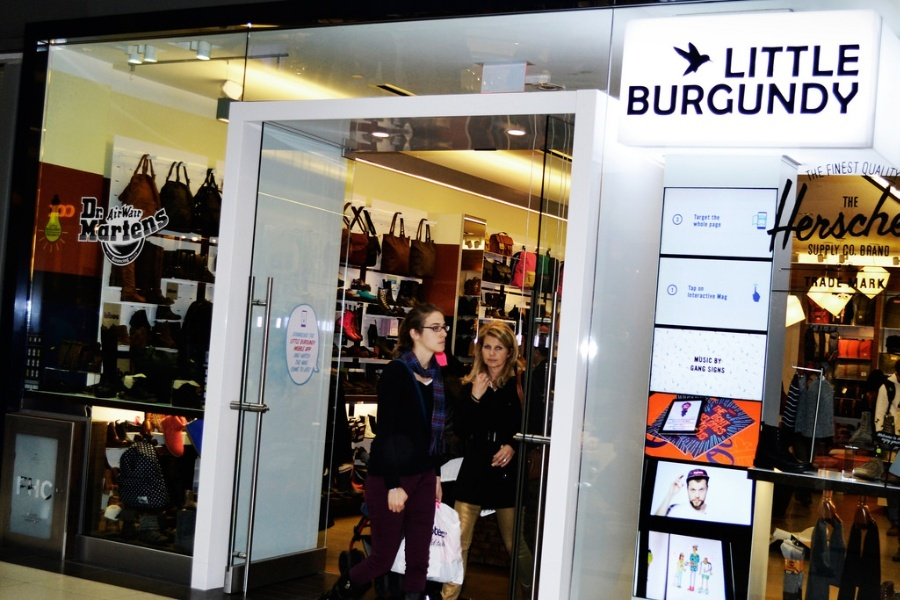text: (785, 176, 800, 254), (801, 176, 816, 254), (817, 176, 832, 254), (833, 176, 848, 254), (849, 176, 864, 254), (865, 176, 880, 254), (881, 176, 896, 254), (305, 332, 319, 379), (291, 332, 304, 379), (81, 206, 96, 246), (97, 206, 112, 246), (113, 206, 128, 246), (129, 206, 144, 246), (145, 206, 160, 246), (161, 206, 175, 246), (777, 176, 784, 254), (737, 43, 752, 79), (753, 43, 768, 79), (769, 43, 784, 79), (785, 43, 800, 79), (801, 43, 816, 79), (817, 43, 832, 79), (833, 43, 848, 79), (641, 81, 656, 116), (657, 81, 672, 116), (673, 81, 688, 116), (689, 81, 704, 116), (705, 81, 720, 116), (721, 81, 736, 116), (737, 81, 752, 116), (753, 81, 768, 116), (769, 81, 784, 116), (785, 81, 800, 116), (801, 81, 816, 116), (817, 81, 832, 116), (833, 81, 848, 116), (849, 43, 862, 79), (17, 474, 32, 503), (33, 474, 48, 503), (628, 81, 640, 116), (81, 196, 96, 222), (849, 81, 860, 116), (726, 43, 736, 79), (865, 160, 880, 181), (881, 160, 896, 181), (706, 414, 720, 436), (113, 203, 128, 222), (129, 203, 144, 222), (833, 160, 848, 177), (97, 196, 106, 222), (897, 176, 900, 254), (849, 275, 864, 290), (865, 275, 880, 290), (817, 275, 832, 289), (434, 526, 448, 540), (817, 243, 832, 256), (865, 244, 880, 257), (849, 160, 860, 177), (806, 164, 816, 182), (721, 413, 733, 428), (804, 275, 816, 289), (113, 254, 128, 264), (49, 474, 54, 503), (817, 164, 825, 182), (881, 244, 892, 257), (833, 275, 843, 289), (433, 538, 448, 547), (849, 196, 860, 208), (721, 414, 727, 436), (689, 284, 704, 292), (689, 292, 704, 300), (695, 420, 704, 433), (695, 429, 704, 442), (690, 364, 704, 372), (808, 243, 816, 256), (833, 243, 841, 256), (849, 243, 857, 256), (721, 404, 729, 417), (826, 160, 832, 177), (708, 221, 720, 229), (708, 366, 720, 374), (694, 355, 704, 364), (693, 213, 704, 221), (705, 292, 716, 300), (104, 311, 112, 322), (113, 311, 121, 322), (676, 216, 688, 223), (108, 203, 112, 222), (881, 275, 886, 290), (842, 196, 848, 208), (705, 355, 713, 364), (843, 243, 848, 256), (705, 429, 710, 442), (897, 160, 900, 181), (694, 221, 704, 227), (705, 213, 712, 221), (721, 293, 728, 301), (860, 244, 864, 257), (705, 420, 709, 433), (712, 214, 720, 220), (714, 357, 720, 364), (721, 366, 726, 374), (79, 206, 80, 246), (697, 286, 704, 291), (718, 413, 720, 428), (79, 196, 80, 222), (717, 293, 720, 301), (110, 254, 112, 264), (129, 254, 131, 264), (705, 221, 707, 227), (705, 364, 706, 372), (721, 357, 722, 364), (671, 288, 672, 293), (673, 288, 674, 293)
